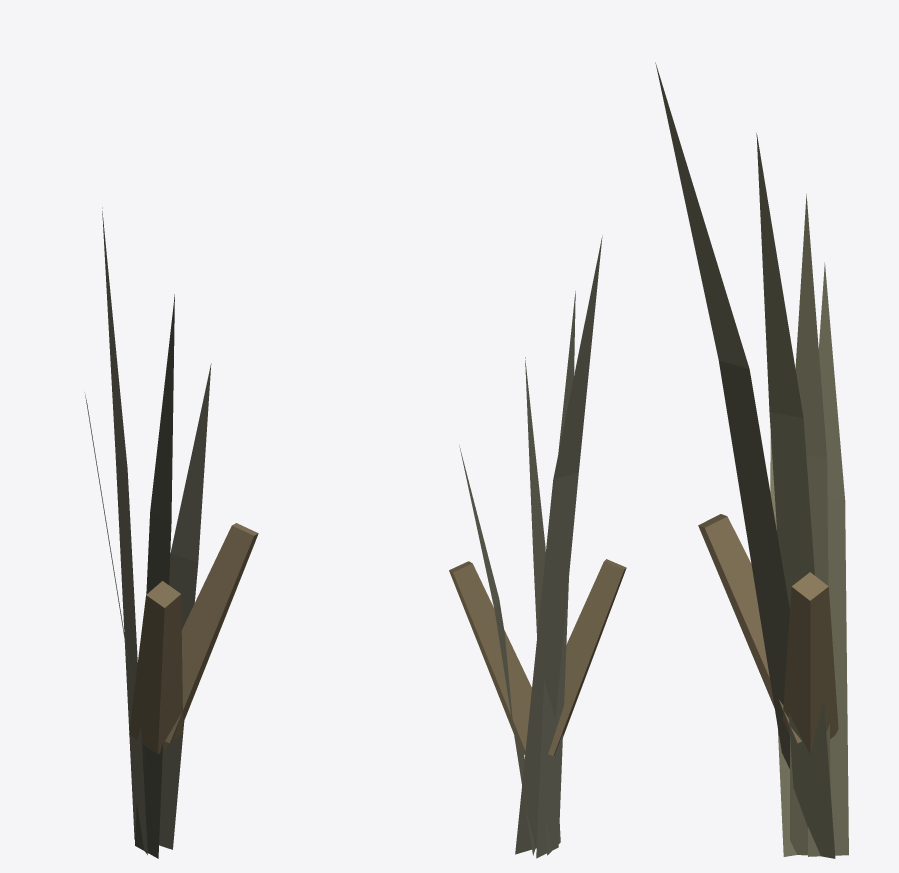
The model's file is shui.changpu@fruiting__winter.glb.
3 renders of one model, left to right at view 1: azimuth 30°, elevation 25°; view 2: azimuth 150°, elevation 25°; view 3: azimuth 270°, elevation 25°, orthographic. The views are drawn at different scales.
Parts seen in each view (by area): view 1: shui.changpu@fruiting__winter; view 2: shui.changpu@fruiting__winter; view 3: shui.changpu@fruiting__winter.
Boxes of the visible parts, left/top/right/bottom form: shui.changpu@fruiting__winter: left=84, top=207, right=258, bottom=858; shui.changpu@fruiting__winter: left=449, top=236, right=626, bottom=858; shui.changpu@fruiting__winter: left=655, top=62, right=848, bottom=858.
Bounding box in the file's own units: 0.5859 × 1.62 × 0.3823.
